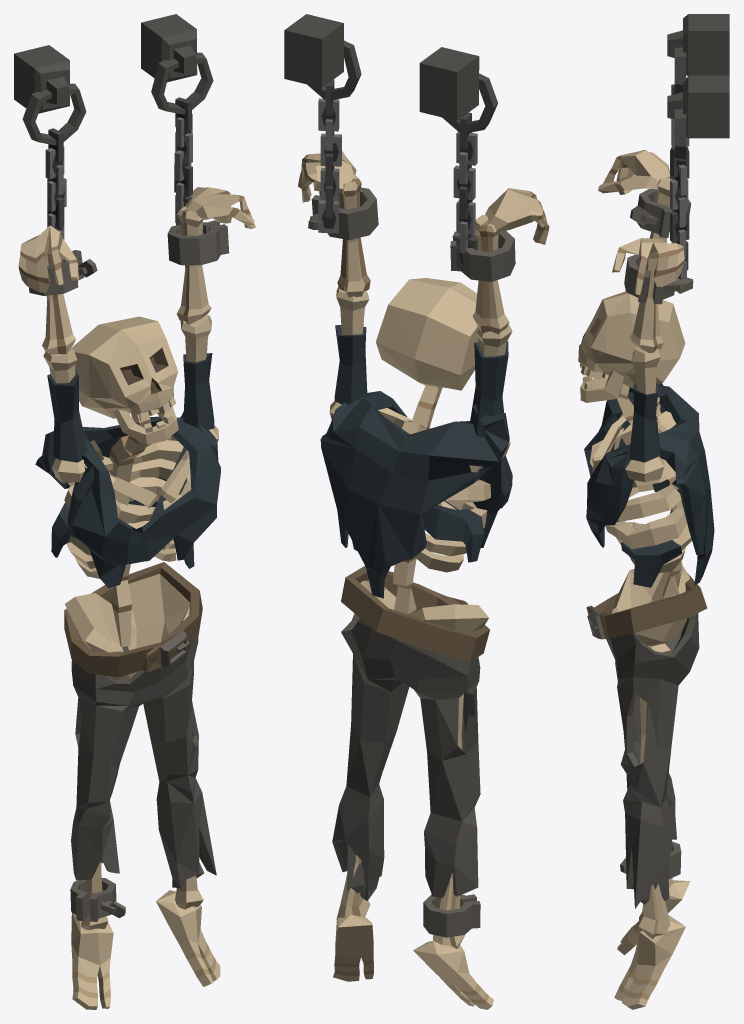
Rendered from SM_Prop_Skeleton_Slave_Shackles_02.fbx.
3 renders of one model, left to right at view 1: azimuth 30°, elevation 25°; view 2: azimuth 150°, elevation 25°; view 3: azimuth 270°, elevation 25°, orthographic. The views are drawn at different scales.
Parts seen in each view (by area): view 1: SM_Prop_Skeleton_Slave_Shackles_02; view 2: SM_Prop_Skeleton_Slave_Shackles_02; view 3: SM_Prop_Skeleton_Slave_Shackles_02.
Part boxes in pixels (x1,y1,x2,y2): SM_Prop_Skeleton_Slave_Shackles_02: (14,14,255,1009); SM_Prop_Skeleton_Slave_Shackles_02: (284,14,549,1009); SM_Prop_Skeleton_Slave_Shackles_02: (578,14,729,1009).
Size of the model in its own units: 69.42 by 261 by 38.71.
